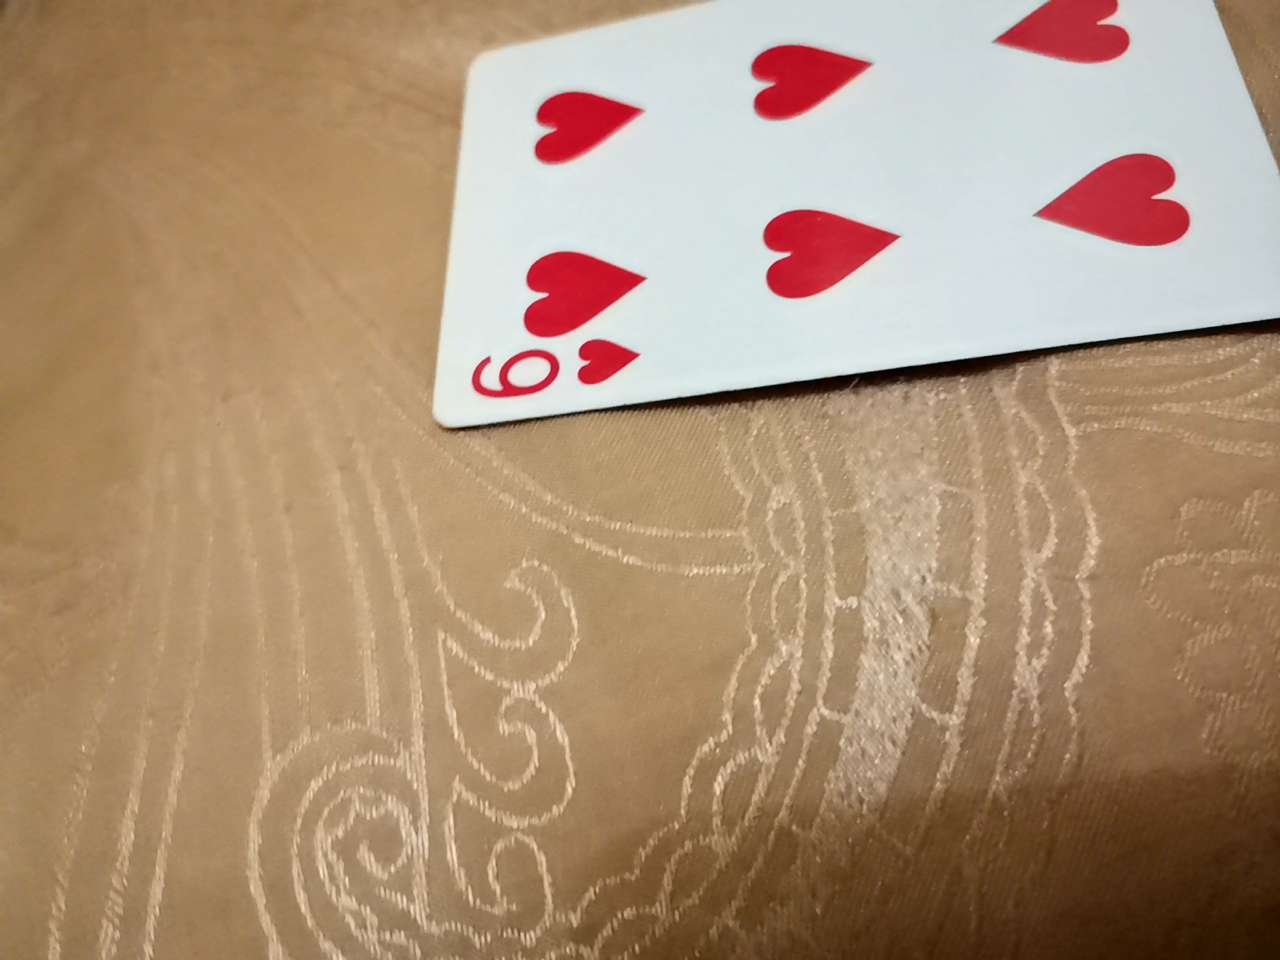hx 6: (409, 2, 1279, 421)
